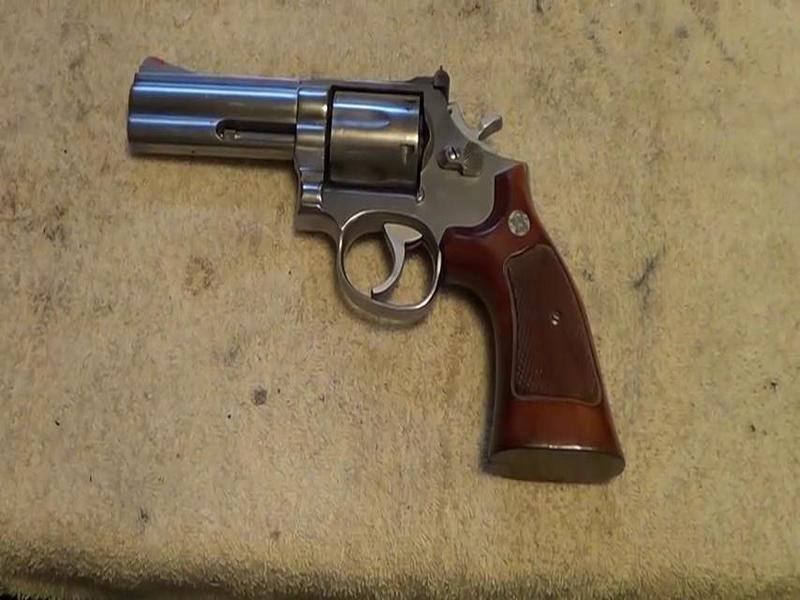Revolver: (135, 49, 618, 468)
